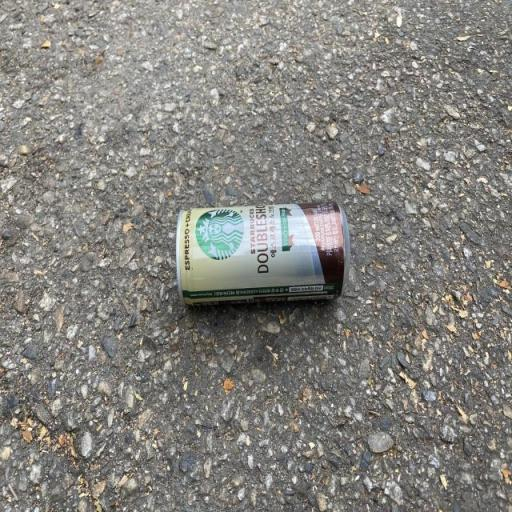metal: (146, 193, 374, 343)
